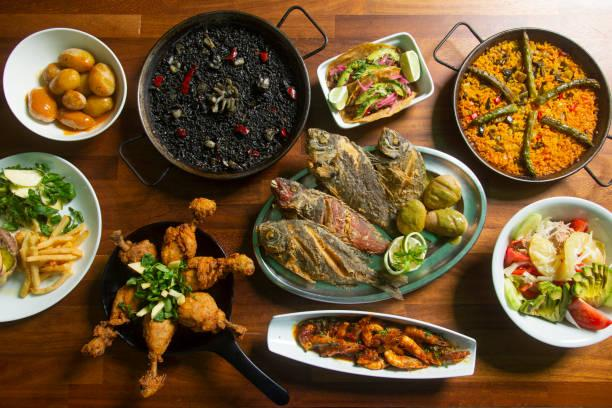Braised Crucian Carp: (250, 147, 477, 305), (135, 9, 309, 182), (451, 26, 610, 186), (491, 195, 611, 348), (1, 150, 102, 324), (103, 221, 236, 352), (266, 307, 477, 380), (1, 26, 125, 144), (314, 31, 434, 131)
